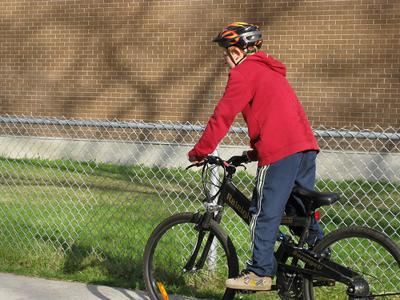person: (186, 21, 332, 294)
